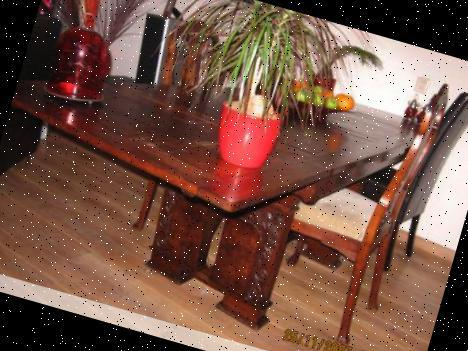Mesa: (0, 2, 433, 350)
Silla: (251, 46, 459, 350), (293, 52, 467, 292)
